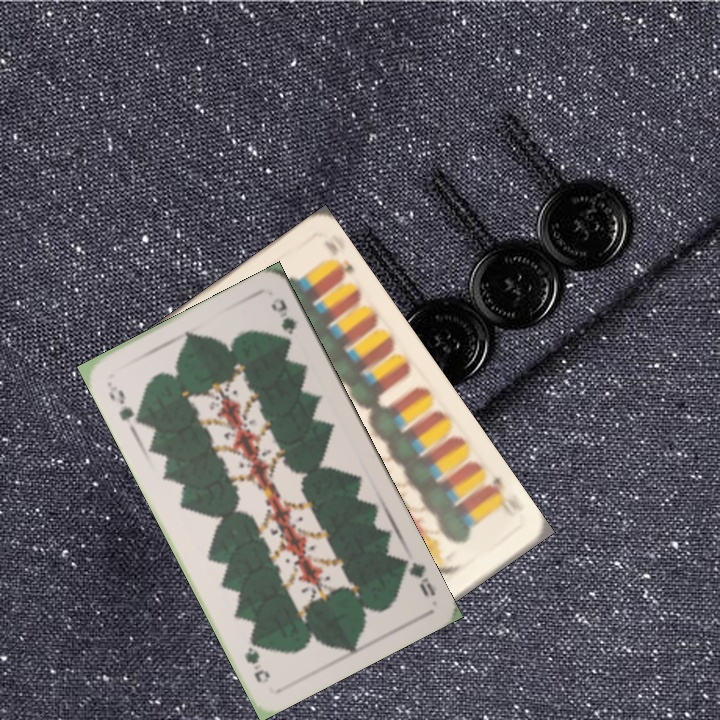E10: (480, 472, 520, 520)
G9: (395, 553, 438, 599), (104, 381, 144, 428)
